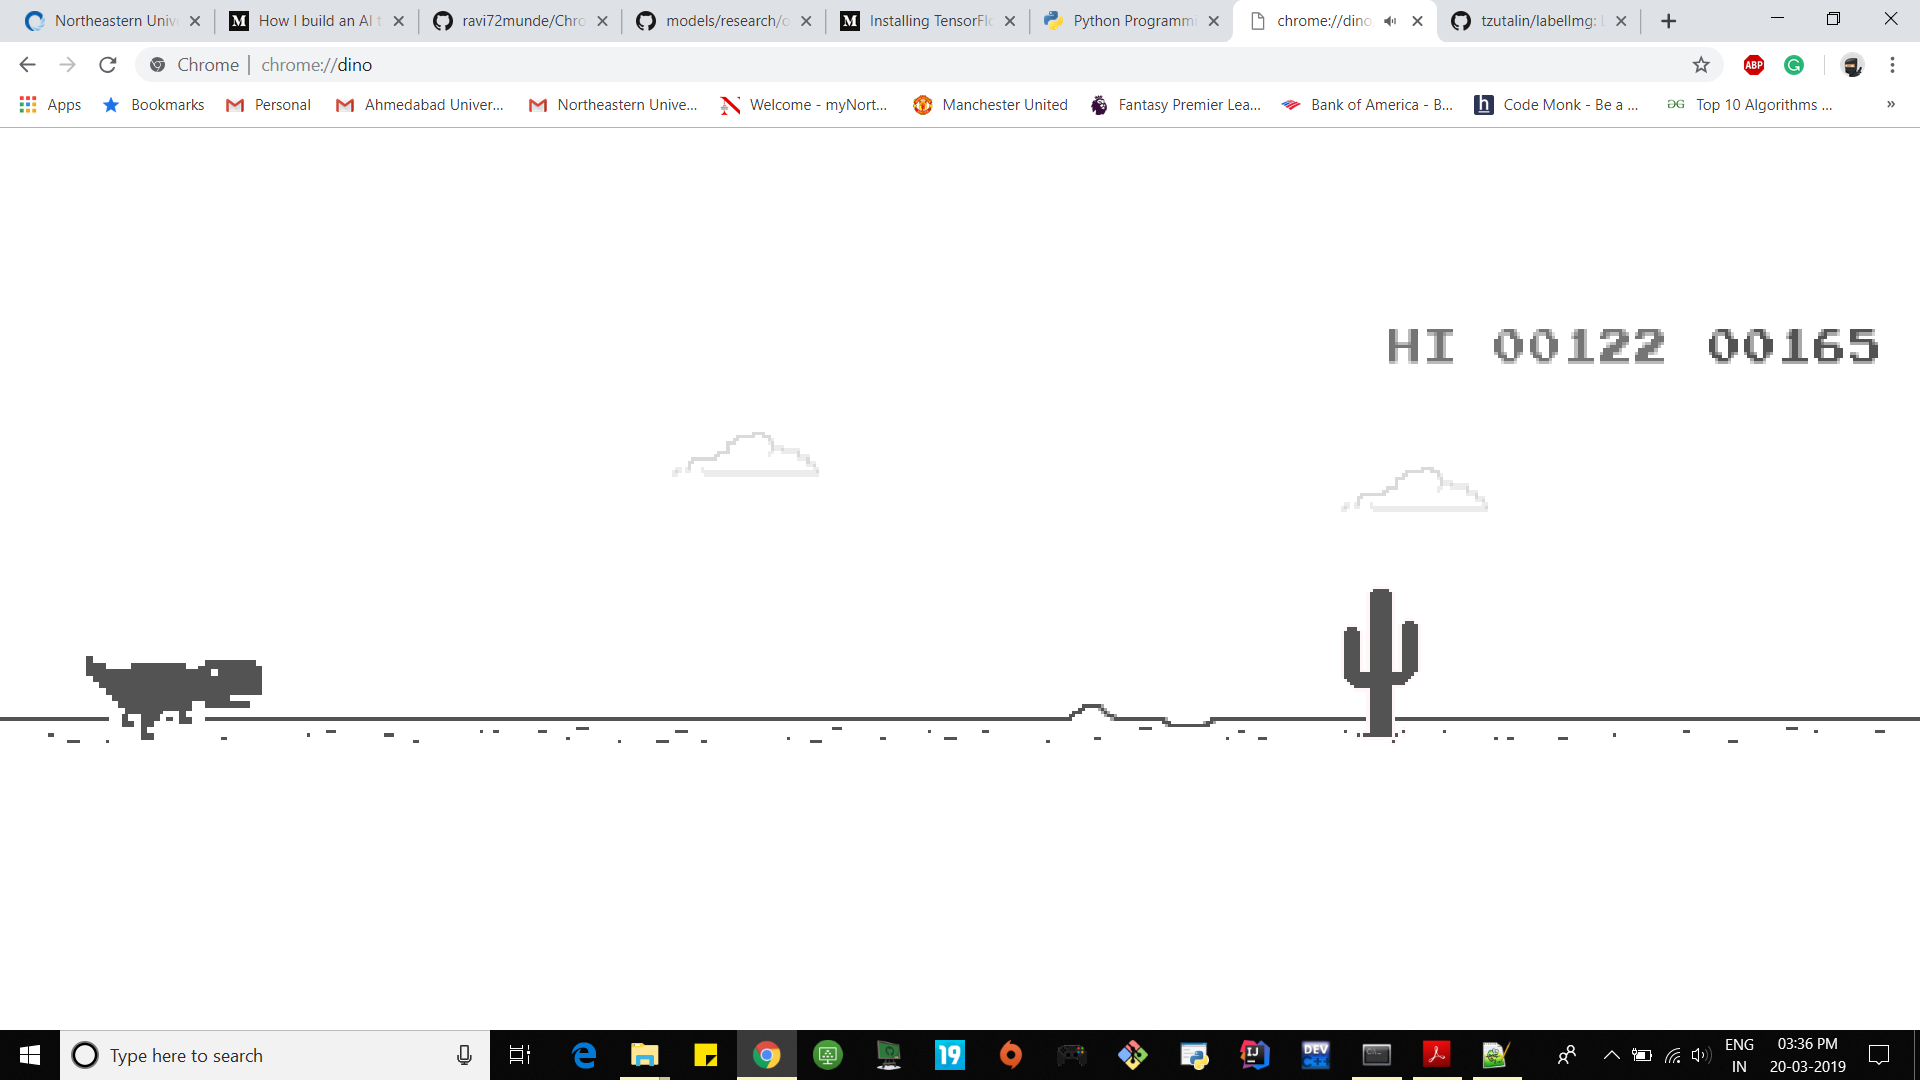cactus-1: (1342, 585, 1420, 740)
dino: (82, 653, 261, 738)
